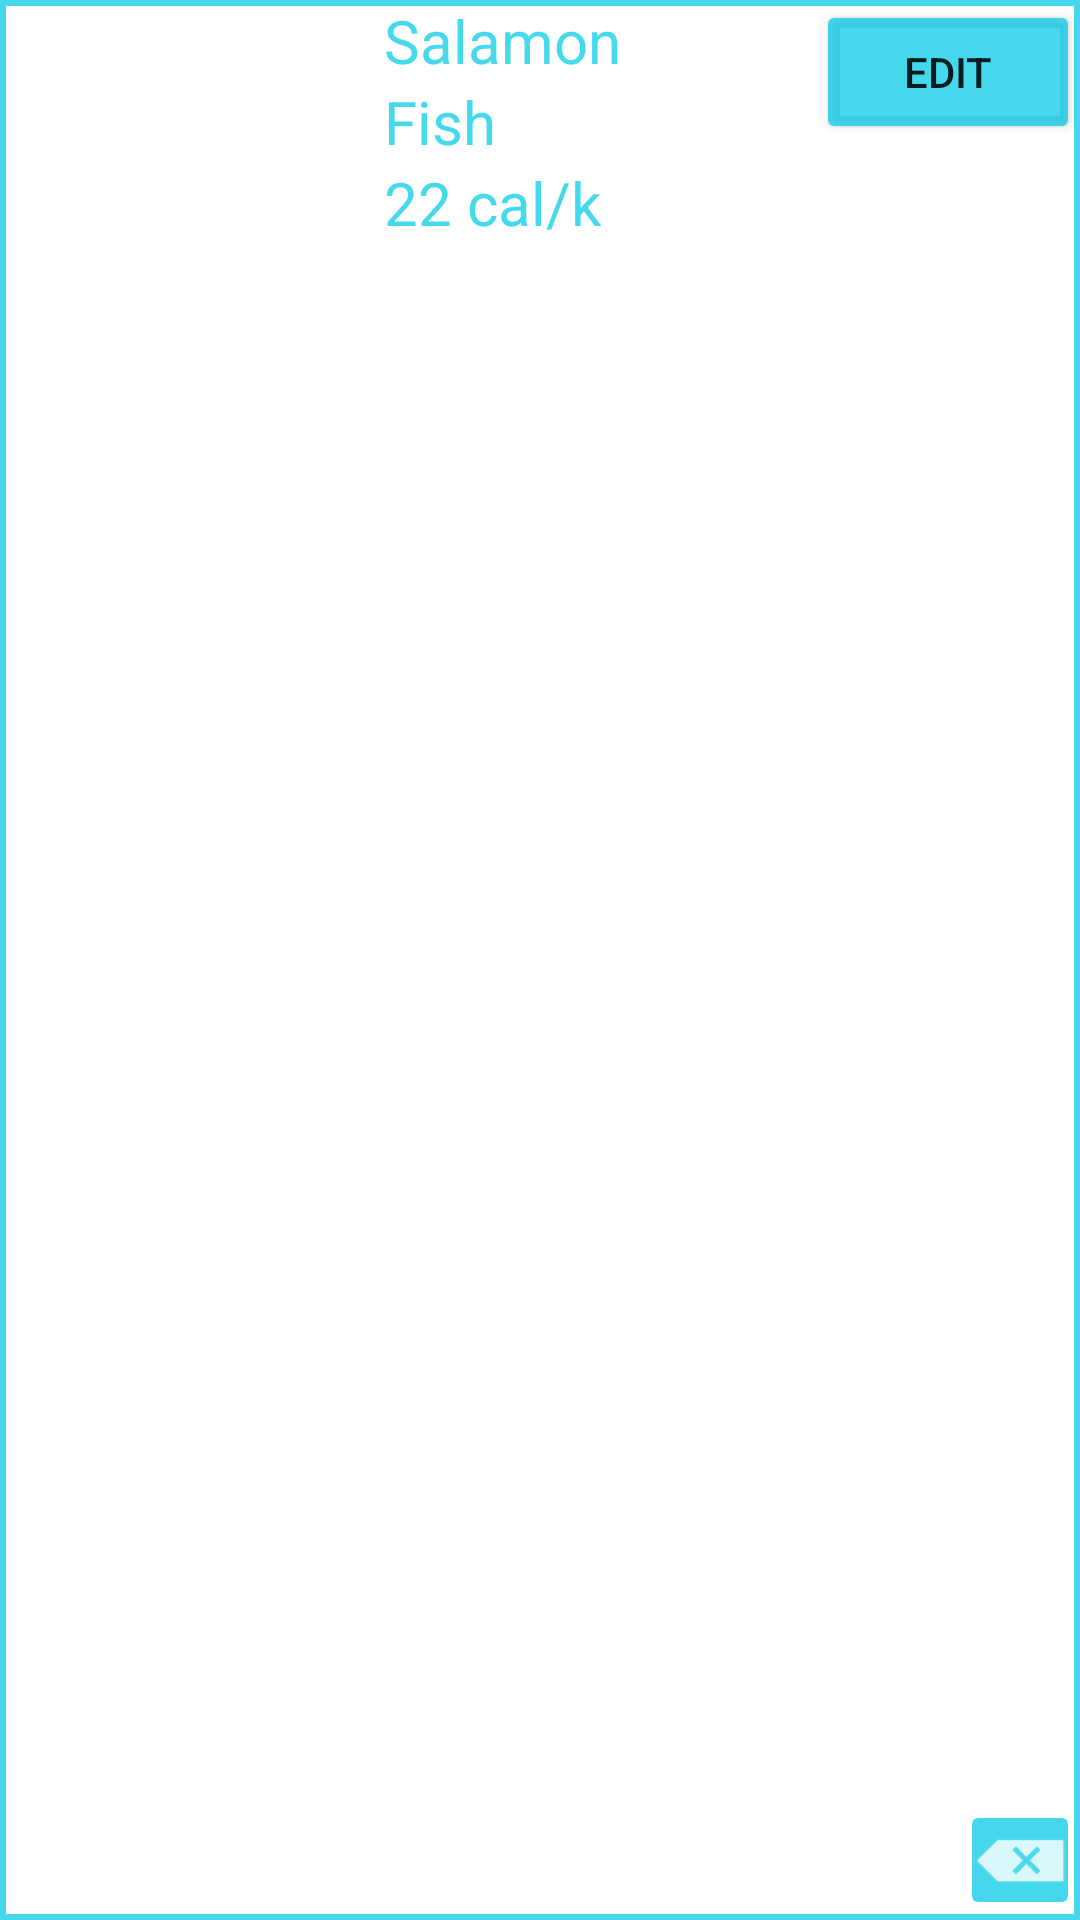

Where icons sit on this 1080x1920 app screen, as [left=x1, top=y1, right=x2, bottom=y2]:
delete: [left=972, top=1818, right=1068, bottom=1902]
